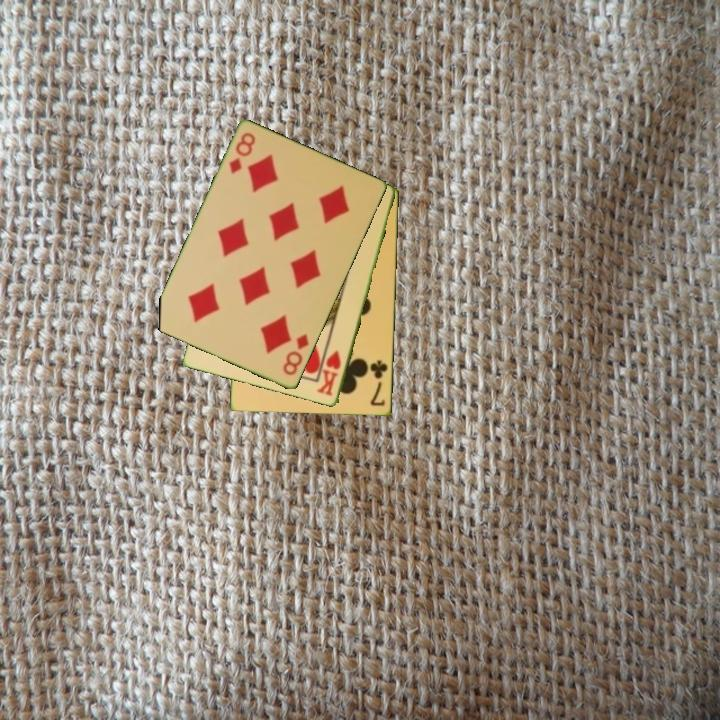7c: (367, 357, 391, 409)
8d: (279, 330, 312, 379), (225, 129, 258, 177)
Kh: (314, 347, 344, 399)
